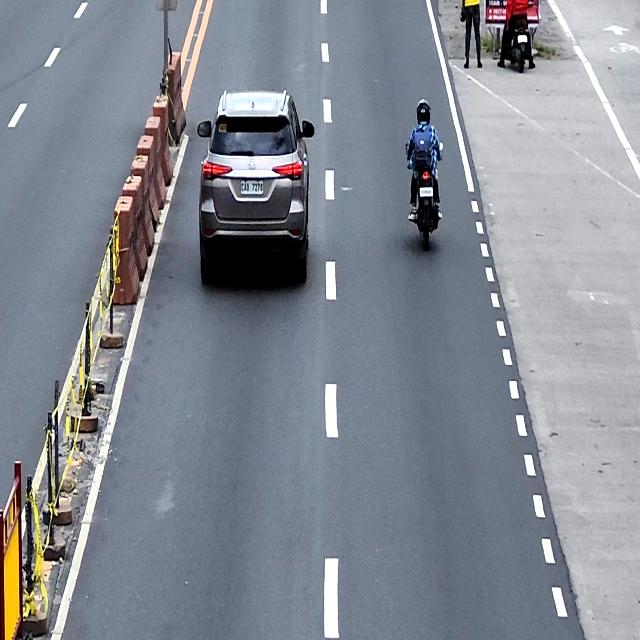Car: (196, 89, 315, 284)
License-Plate: (240, 180, 264, 194), (419, 186, 433, 198), (517, 35, 528, 43)
Motorcycle: (404, 138, 444, 250), (506, 0, 531, 74)
